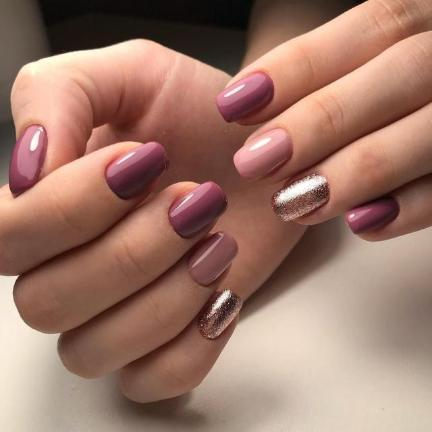Nail: (105, 141, 171, 199), (168, 181, 228, 237), (233, 128, 293, 181), (215, 72, 274, 123), (270, 172, 330, 222), (8, 124, 47, 197), (188, 231, 239, 285), (197, 287, 242, 341), (345, 194, 400, 235)
